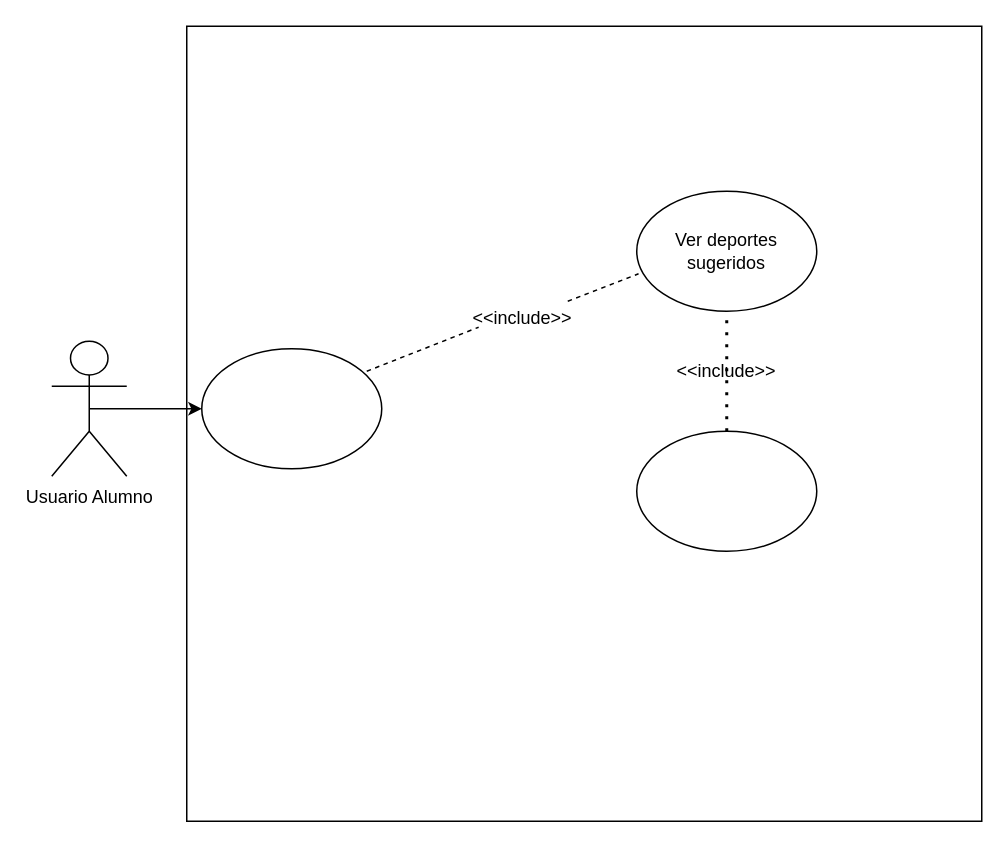
The diagram is 1008 pixels wide and 848 high, and some of its shapes have lost their labels. The centre of each missing label's shape, as x and y in pixels:
"Escoger deporte recomendado" belongs at point 726,490.
"Sugerencia de deportes" belongs at point 291,408.
